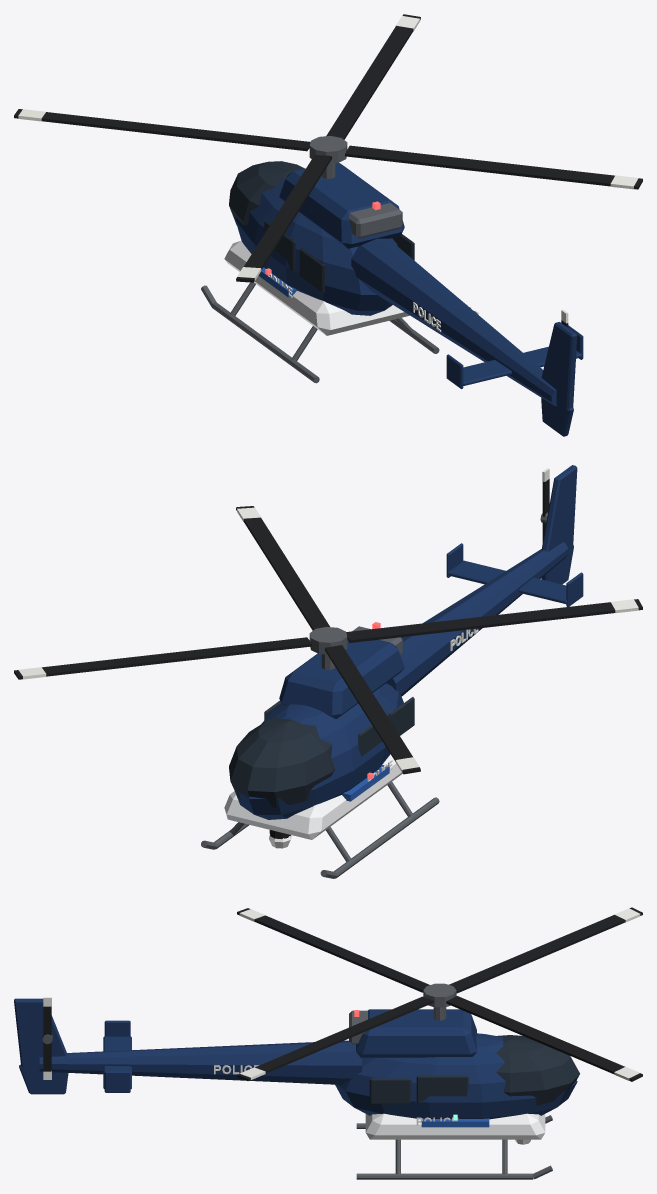
The model's file is PD_PoliceHelicopter.fbx.
3 renders of one model, top to bottom at view 1: azimuth 30°, elevation 25°; view 2: azimuth 150°, elevation 25°; view 3: azimuth 270°, elevation 25°, orthographic. The views are drawn at different scales.
Visible parts, largest first — view 1: PD_PoliceHelicopter_Body, PD_PoliceHelicopter_MainRotor; view 2: PD_PoliceHelicopter_Body, PD_PoliceHelicopter_MainRotor; view 3: PD_PoliceHelicopter_Body, PD_PoliceHelicopter_MainRotor, PD_PoliceHelicopter_TailRotor.
Boxes of the visible parts, x1=… form: PD_PoliceHelicopter_Body: x1=201, y1=161, x2=583, y2=436; PD_PoliceHelicopter_MainRotor: x1=14, y1=14, x2=642, y2=282; PD_PoliceHelicopter_Body: x1=201, y1=465, x2=583, y2=878; PD_PoliceHelicopter_MainRotor: x1=14, y1=506, x2=642, y2=774; PD_PoliceHelicopter_Body: x1=14, y1=998, x2=579, y2=1179; PD_PoliceHelicopter_MainRotor: x1=237, y1=907, x2=642, y2=1081; PD_PoliceHelicopter_TailRotor: x1=42, y1=997, x2=52, y2=1079.
Size of the model in its own units: 7.82 by 3.48 by 12.1.
